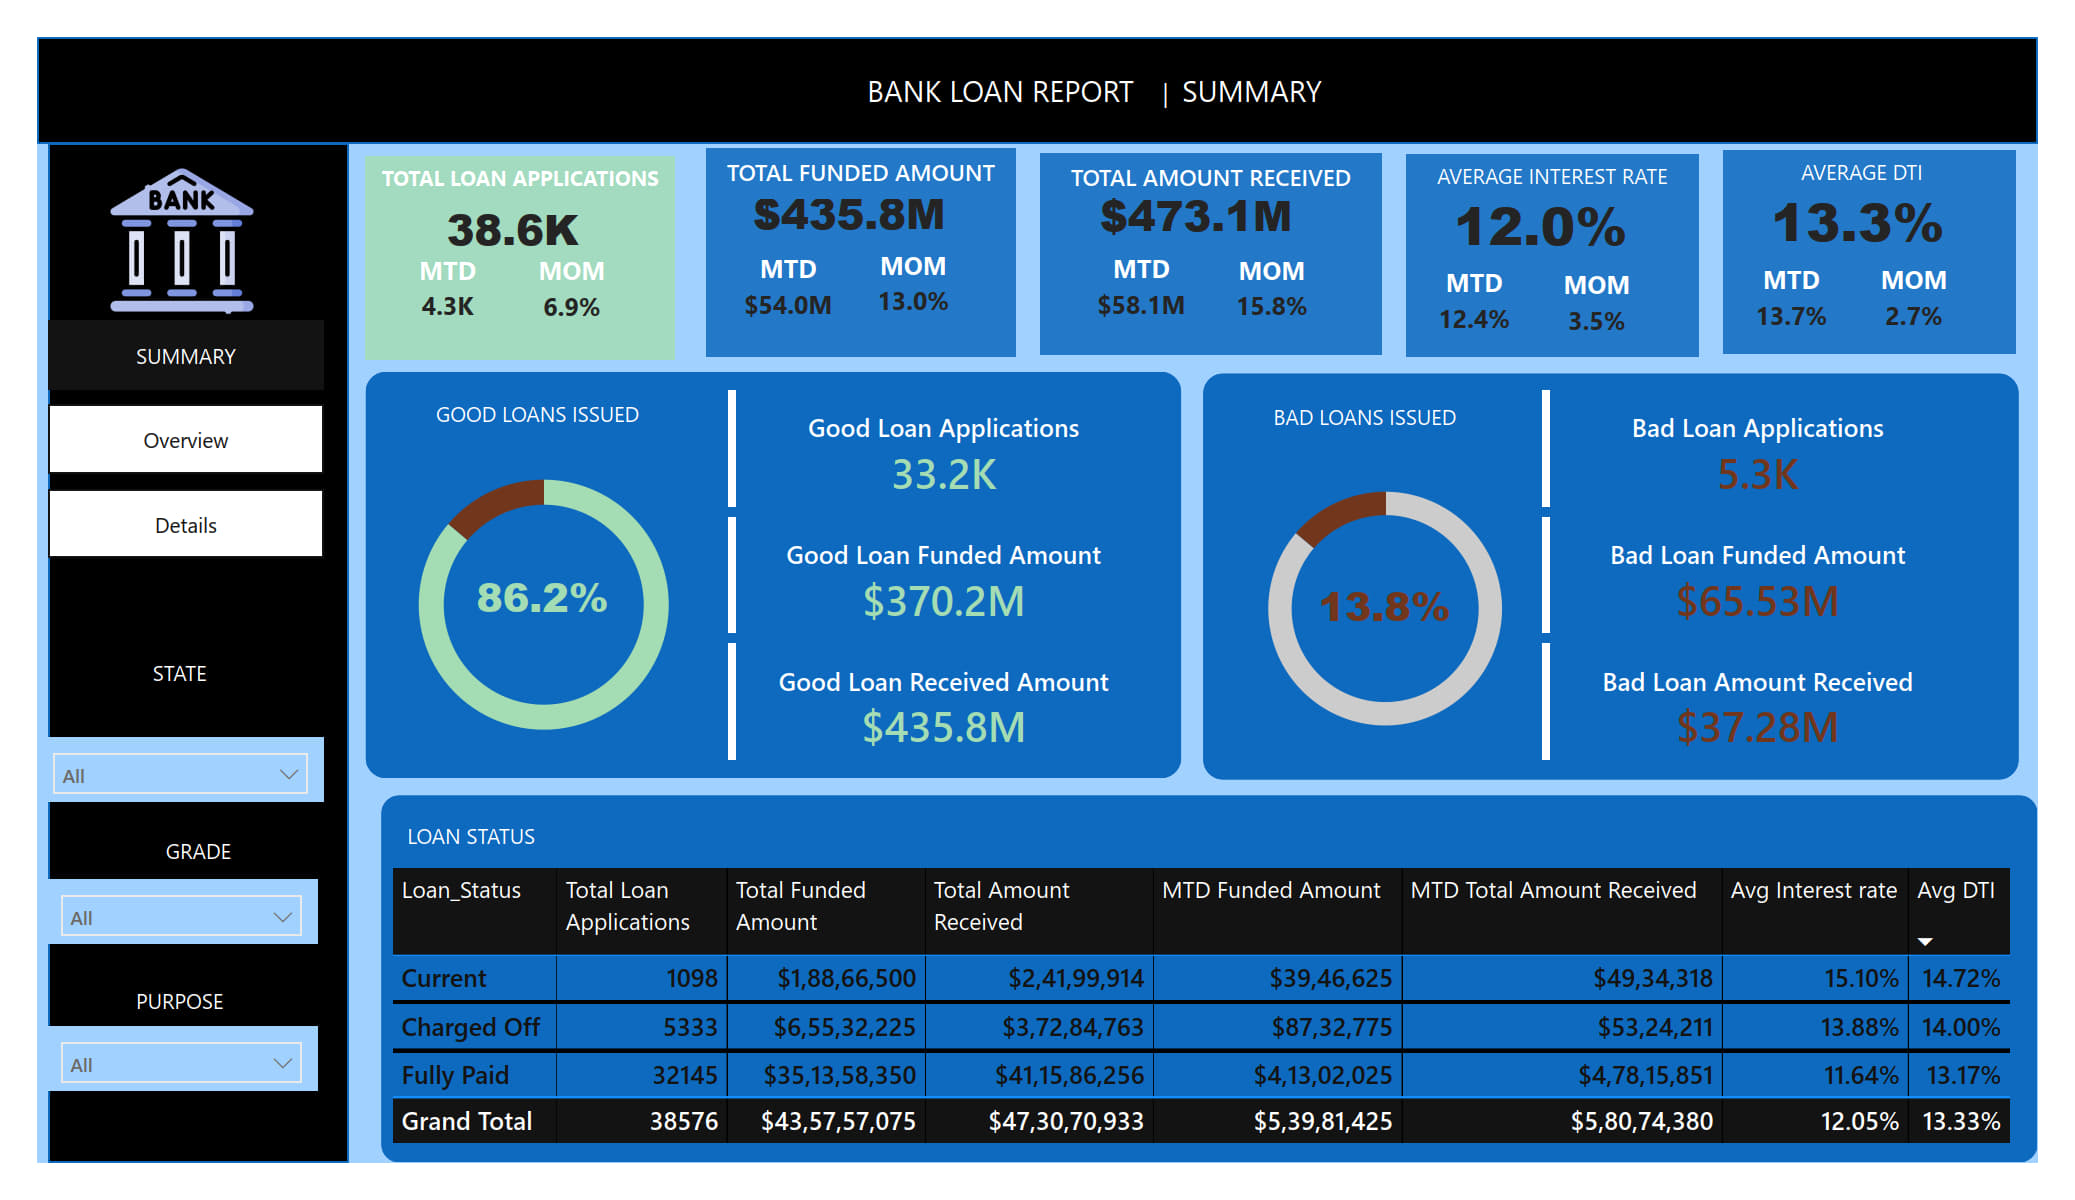

Layout of this report page (visuals, bound fields, positions):
{"tool":"powerbi","page":{"name":"SUMMARY","canvas":[1280,720],"ordinal":0},"visuals":[{"type":"textbox","title":"Total Funded Amount","box":[428.2,71.2,197.9,132.7],"z":0,"group":"g2"},{"type":"textbox","title":"Total Funded Amount","box":[1078.6,72.4,187,130.3],"z":0,"group":"g5"},{"type":"textbox","title":"Total Funded Amount","box":[641.7,73.6,218.4,129.1],"z":0,"group":"g3"},{"type":"textbox","title":"Total Funded Amount","box":[875.8,74.8,187,129.1],"z":0,"group":"g4"},{"type":"group","id":"g1","title":"Group 1","box":[209.9,76,197.9,130.3],"z":0},{"type":"textbox","box":[209.9,76,197.9,130.3],"z":0,"group":"g1"},{"type":"card","fields":{"Values":["Bank_Loan.Avg DTI"]},"box":[1087.6,96.8,154.4,42.4],"z":1000,"group":"g5"},{"type":"card","fields":{"Values":["Bank_Loan.Total Amount Received"]},"box":[672.5,98,137.5,32.3],"z":1000,"group":"g3"},{"type":"card","fields":{"Values":["Bank_Loan.Avg Interest rate"]},"box":[884.8,99,154.4,42.1],"z":1000,"group":"g4"},{"type":"card","fields":{"Values":["Bank_Loan.Total Funded Amount"]},"box":[447.1,99.7,144.8,28.7],"z":1000,"group":"g2"},{"type":"shape","box":[209.9,213.5,522.4,260.6],"z":1000},{"type":"shape","box":[0,0,1280,67.6],"z":2000},{"type":"card","title":"MTD","fields":{"Values":["Bank_Loan.MTD Funded Amount"]},"box":[444.7,136.7,72.4,47.8],"z":2000,"group":"g2"},{"type":"card","title":"MTD","fields":{"Values":["Bank_Loan.MTD Total Amount Received"]},"box":[669.9,137,72.4,49.6],"z":2000,"group":"g3"},{"type":"card","title":"MTD","fields":{"Values":["Bank_Loan.MTD Loan Applications"]},"box":[227.7,138.2,69.3,47],"z":2000,"group":"g1"},{"type":"card","title":"MTD","fields":{"Values":["Bank_Loan.MTD Avg DTI"]},"box":[1094.1,144.5,56.6,46.2],"z":2000,"group":"g5"},{"type":"card","title":"MTD","fields":{"Values":["Bank_Loan.MTD Avg Int"]},"box":[891.3,146.2,56.6,45.8],"z":2000,"group":"g4"},{"type":"shape","box":[7.2,67.6,191.8,652.7],"z":3000},{"type":"card","title":"MOM","fields":{"Values":["Bank_Loan.MOM Funded Amount"]},"box":[524.3,135.5,72.4,47.8],"z":3000,"group":"g2"},{"type":"card","title":"MOM","fields":{"Values":["Bank_Loan.MoM Amount Received"]},"box":[754.5,137.5,70,49.6],"z":3000,"group":"g3"},{"type":"card","title":"MOM","fields":{"Values":["Bank_Loan.MOM Loan Applications"]},"box":[304.6,138.2,74.4,45.8],"z":3000,"group":"g1"},{"type":"card","title":"MOM","fields":{"Values":["Bank_Loan.MOM Avg DTI"]},"box":[1173,144.9,55.6,46.2],"z":3000,"group":"g5"},{"type":"card","title":"MOM","fields":{"Values":["Bank_Loan.MOM Avg Int"]},"box":[970.2,146.6,55.6,45.8],"z":3000,"group":"g4"},{"type":"card","fields":{"Values":["Bank_Loan.Total Loan Applications"]},"box":[235.3,107.4,137.5,32.6],"z":4000},{"type":"group","id":"g2","title":"Group 1","box":[428.2,71.2,197.9,132.7],"z":5000},{"type":"group","id":"g3","title":"Group 1","box":[641.7,73.6,218.4,129.1],"z":6000},{"type":"group","id":"g4","title":"Group 1","box":[875.8,74.8,187,129.1],"z":7000},{"type":"group","id":"g5","title":"Group 1","box":[1078.6,72.4,187,130.3],"z":8000},{"type":"shape","box":[745.6,214.7,522.4,260.6],"z":9000},{"type":"donutChart","fields":{"Category":["Bank_Loan.Good Vs Bad Loan"],"Y":["Bank_Loan.Total Loan Applications"]},"box":[213.5,258.2,220.8,209.9],"z":10000},{"type":"card","fields":{"Values":["Bank_Loan.Good Loan %"]},"box":[272.7,343.8,100.1,30.2],"z":11000},{"type":"textbox","box":[249.7,226.8,165.3,27.7],"z":12000},{"type":"cardVisual","fields":{"Data":["Bank_Loan.Good Loan Applications","Bank_Loan.Good Loan Funded Amnt","Bank_Loan.Good Loan Received Amnt"]},"box":[436.7,220.8,285.9,247.3],"z":13000},{"type":"donutChart","fields":{"Category":["Bank_Loan.Good Vs Bad Loan"],"Y":["Bank_Loan.Total Loan Applications"]},"box":[760.1,266.6,205.1,197.9],"z":14000},{"type":"textbox","box":[774.5,229.2,149.6,29],"z":15000},{"type":"card","fields":{"Values":["Bank_Loan.Bad Loan %"]},"box":[811.9,349.9,100.1,30.2],"z":16000},{"type":"cardVisual","fields":{"Data":["Bank_Loan.Bad Loan Applications","Bank_Loan.Bad Loan Funded Amount","Bank_Loan.Bad Loan Amount Received"]},"box":[957.9,220.8,285.9,247.3],"z":17000},{"type":"shape","box":[219.6,485,1060.5,235.3],"z":18000},{"type":"tableEx","fields":{"Values":["Bank_Loan.loan_status","Bank_Loan.Total Loan Applications","Bank_Loan.Total Funded Amount","Bank_Loan.Total Amount Received","Bank_Loan.MTD Funded Amount","Bank_Loan.MTD Total Amount Received","Bank_Loan.Avg Interest rate","Bank_Loan.Avg DTI"]},"box":[222,527.2,1046,193],"z":19000},{"type":"textbox","box":[228,497.1,113.4,30.2],"z":20000},{"type":"slicer","fields":{"Values":["Bank_Loan.address_state"]},"box":[0,447.6,183.4,41],"z":21000},{"type":"textbox","box":[13.3,393.3,155.6,30.2],"z":22000},{"type":"slicer","fields":{"Values":["Bank_Loan.grade"]},"box":[4.8,539.3,173.7,41],"z":23000},{"type":"textbox","box":[13.3,603.2,155.6,30.2],"z":24000},{"type":"textbox","box":[22.9,506.7,160.5,32.6],"z":25000},{"type":"slicer","fields":{"Values":["Bank_Loan.purpose"]},"box":[4.8,633.4,173.7,41],"z":26000},{"type":"textbox","box":[480.2,15.7,431.9,35],"z":27000},{"type":"pageNavigator","box":[7.2,181,176.1,152],"z":28000},{"type":"image","box":[21.7,76,141.2,107.4],"z":29000}]}

Visuals, with their boxes on the page's 1280x720 design canvas (x1, y1, x2, y2). These are canvas units, not pixel positions in the 2075x1200 screenshot, which may show the page scaled, cropped or inside an application window:
"Total Funded Amount" textbox: x1=428 y1=71 x2=626 y2=204
"Total Funded Amount" textbox: x1=1079 y1=72 x2=1266 y2=203
"Total Funded Amount" textbox: x1=642 y1=74 x2=860 y2=203
"Total Funded Amount" textbox: x1=876 y1=75 x2=1063 y2=204
"Group 1" group: x1=210 y1=76 x2=408 y2=206
textbox: x1=210 y1=76 x2=408 y2=206
card - Bank_Loan.Avg DTI: x1=1088 y1=97 x2=1242 y2=139
card - Bank_Loan.Total Amount Received: x1=672 y1=98 x2=810 y2=130
card - Bank_Loan.Avg Interest rate: x1=885 y1=99 x2=1039 y2=141
card - Bank_Loan.Total Funded Amount: x1=447 y1=100 x2=592 y2=128
shape: x1=210 y1=214 x2=732 y2=474
shape: x1=0 y1=0 x2=1280 y2=68
"MTD" card: x1=445 y1=137 x2=517 y2=184
"MTD" card: x1=670 y1=137 x2=742 y2=187
"MTD" card: x1=228 y1=138 x2=297 y2=185
"MTD" card: x1=1094 y1=144 x2=1151 y2=191
"MTD" card: x1=891 y1=146 x2=948 y2=192
shape: x1=7 y1=68 x2=199 y2=720
"MOM" card: x1=524 y1=136 x2=597 y2=183
"MOM" card: x1=754 y1=138 x2=824 y2=187
"MOM" card: x1=305 y1=138 x2=379 y2=184
"MOM" card: x1=1173 y1=145 x2=1229 y2=191
"MOM" card: x1=970 y1=147 x2=1026 y2=192
card - Bank_Loan.Total Loan Applications: x1=235 y1=107 x2=373 y2=140
"Group 1" group: x1=428 y1=71 x2=626 y2=204
"Group 1" group: x1=642 y1=74 x2=860 y2=203
"Group 1" group: x1=876 y1=75 x2=1063 y2=204
"Group 1" group: x1=1079 y1=72 x2=1266 y2=203
shape: x1=746 y1=215 x2=1268 y2=475
donutChart - Bank_Loan.Good Vs Bad Loan x Bank_Loan.Total Loan Applications: x1=214 y1=258 x2=434 y2=468
card - Bank_Loan.Good Loan %: x1=273 y1=344 x2=373 y2=374
textbox: x1=250 y1=227 x2=415 y2=254
cardVisual - Bank_Loan.Good Loan Applications x Bank_Loan.Good Loan Funded Amnt: x1=437 y1=221 x2=723 y2=468
donutChart - Bank_Loan.Good Vs Bad Loan x Bank_Loan.Total Loan Applications: x1=760 y1=267 x2=965 y2=464
textbox: x1=774 y1=229 x2=924 y2=258
card - Bank_Loan.Bad Loan %: x1=812 y1=350 x2=912 y2=380
cardVisual - Bank_Loan.Bad Loan Applications x Bank_Loan.Bad Loan Funded Amount: x1=958 y1=221 x2=1244 y2=468
shape: x1=220 y1=485 x2=1280 y2=720
tableEx - Bank_Loan.loan_status x Bank_Loan.Total Loan Applications: x1=222 y1=527 x2=1268 y2=720
textbox: x1=228 y1=497 x2=341 y2=527
slicer - Bank_Loan.address_state: x1=0 y1=448 x2=183 y2=489
textbox: x1=13 y1=393 x2=169 y2=424
slicer - Bank_Loan.grade: x1=5 y1=539 x2=178 y2=580
textbox: x1=13 y1=603 x2=169 y2=633
textbox: x1=23 y1=507 x2=183 y2=539
slicer - Bank_Loan.purpose: x1=5 y1=633 x2=178 y2=674
textbox: x1=480 y1=16 x2=912 y2=51
pageNavigator: x1=7 y1=181 x2=183 y2=333
image: x1=22 y1=76 x2=163 y2=183
